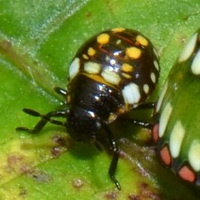insect: (16, 28, 159, 188), (156, 29, 199, 199)
